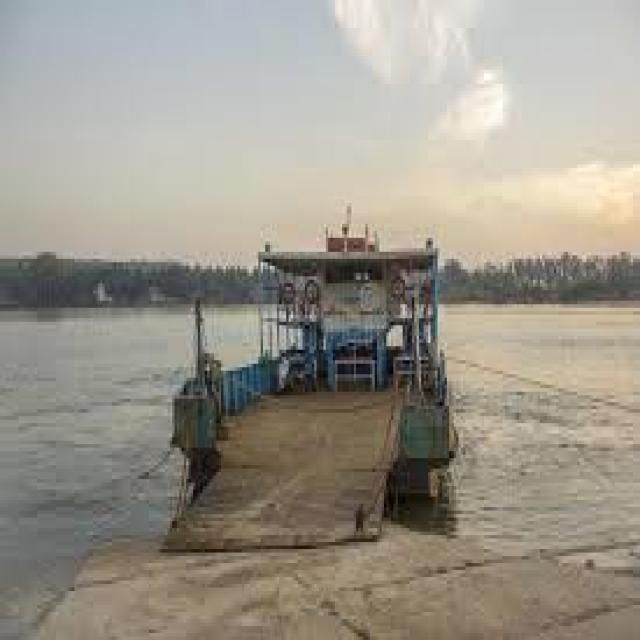fishing boat: (155, 199, 468, 482)
